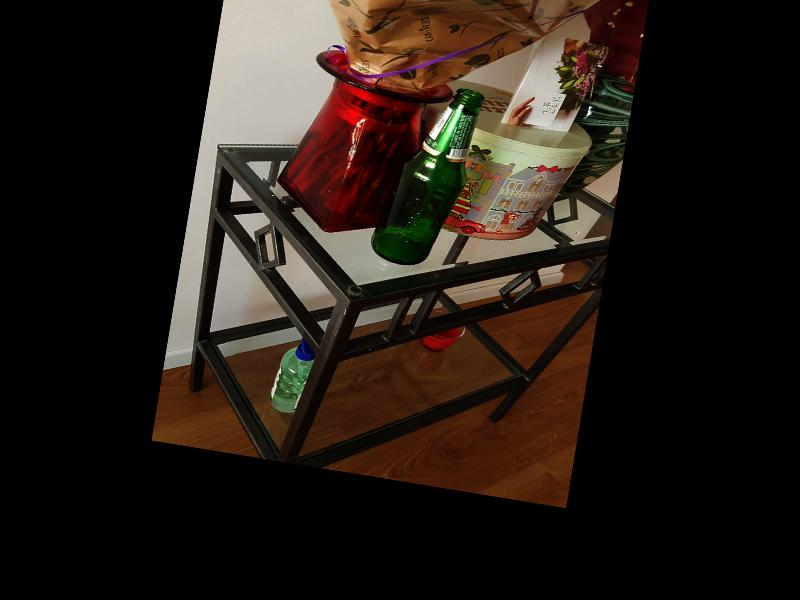Beer: (369, 77, 483, 273)
